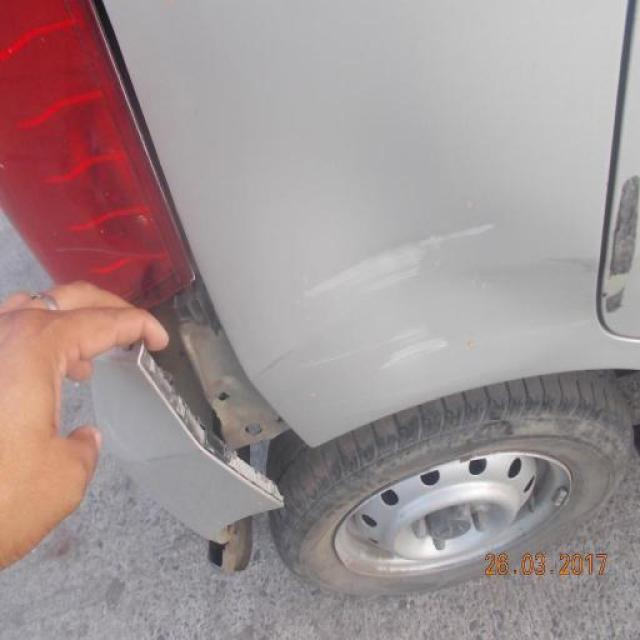tear: (135, 279, 309, 509)
